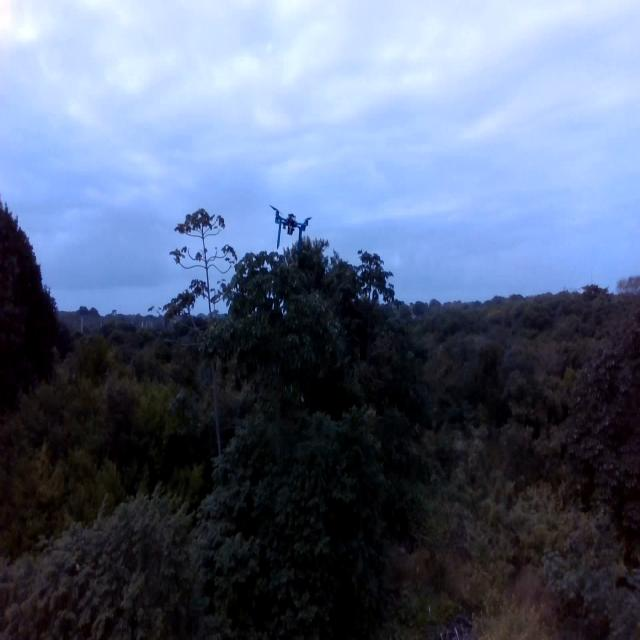-uav-: (266, 194, 315, 252)
